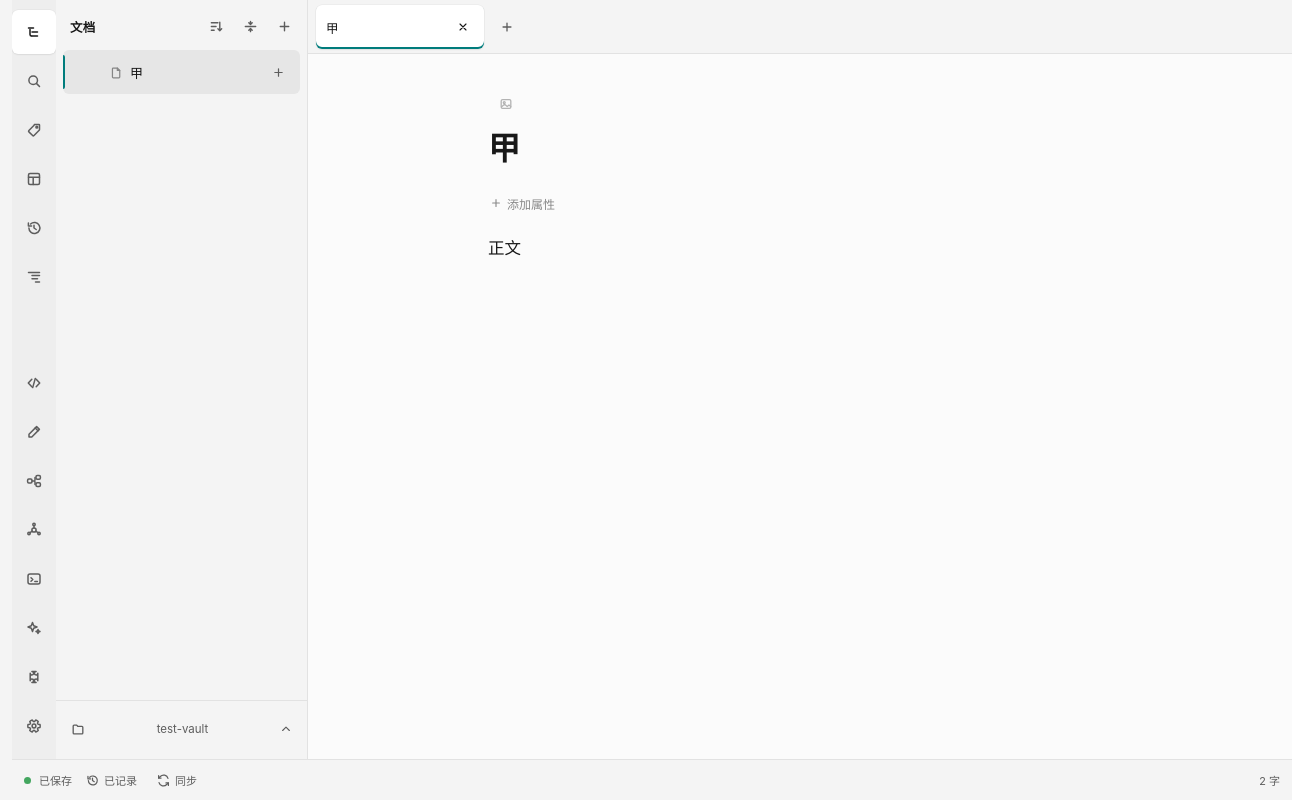
Test: 侧栏里的动态 › 展开看动了哪几篇
Click the button named "动态": coordinates (34, 228) [12, 206, 56, 250]
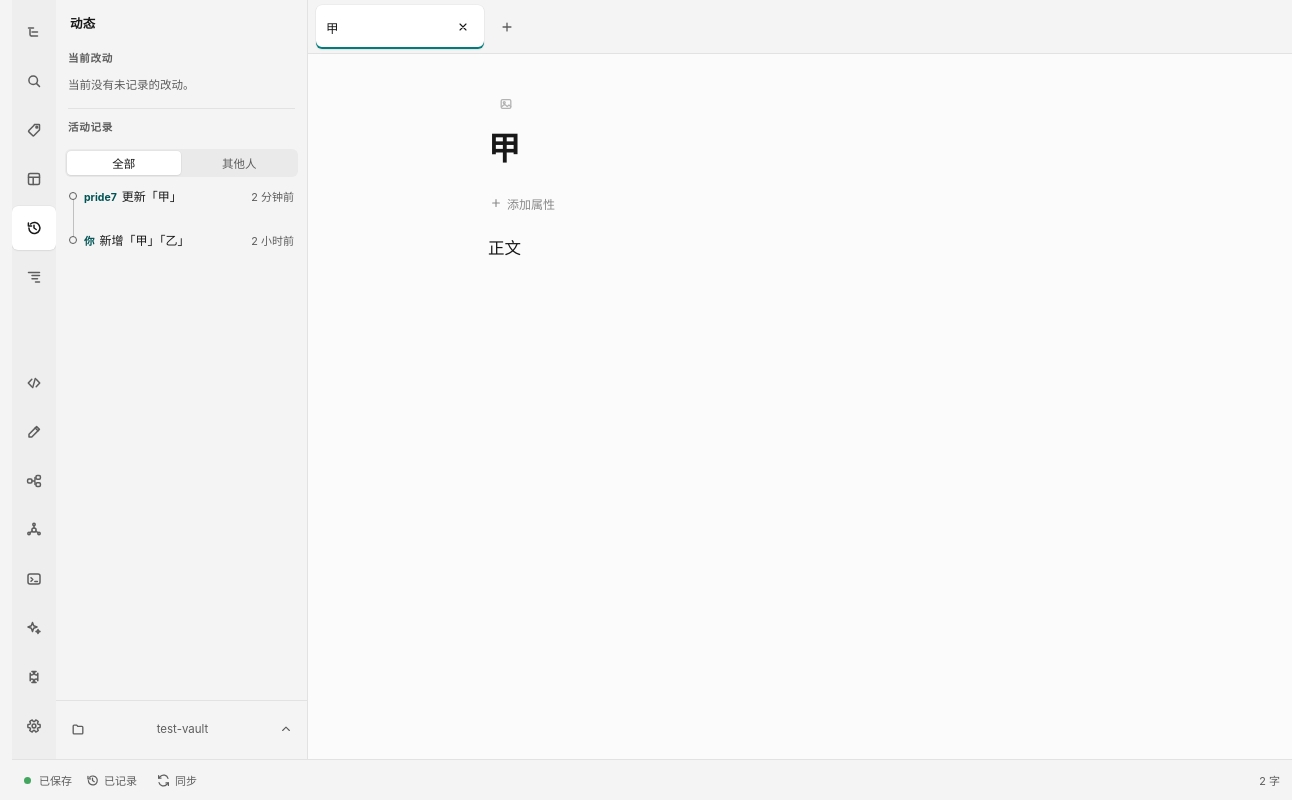
Click the button with class "hist-head" showing "你 新增「甲」「乙」 2 小时前": coordinates (191, 247) [82, 225, 300, 269]
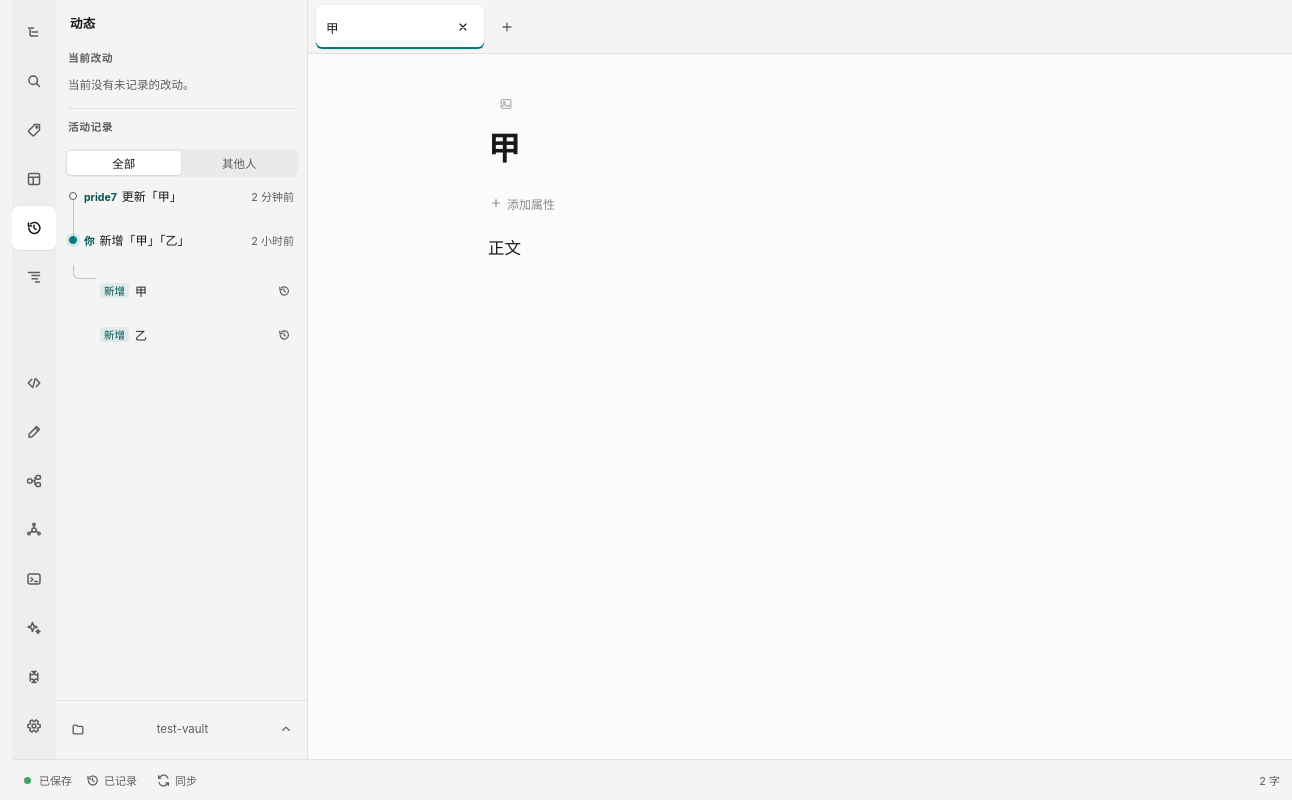
Now the 1st text with class "hist-kind" reads "新增", box [104, 286, 125, 298]
